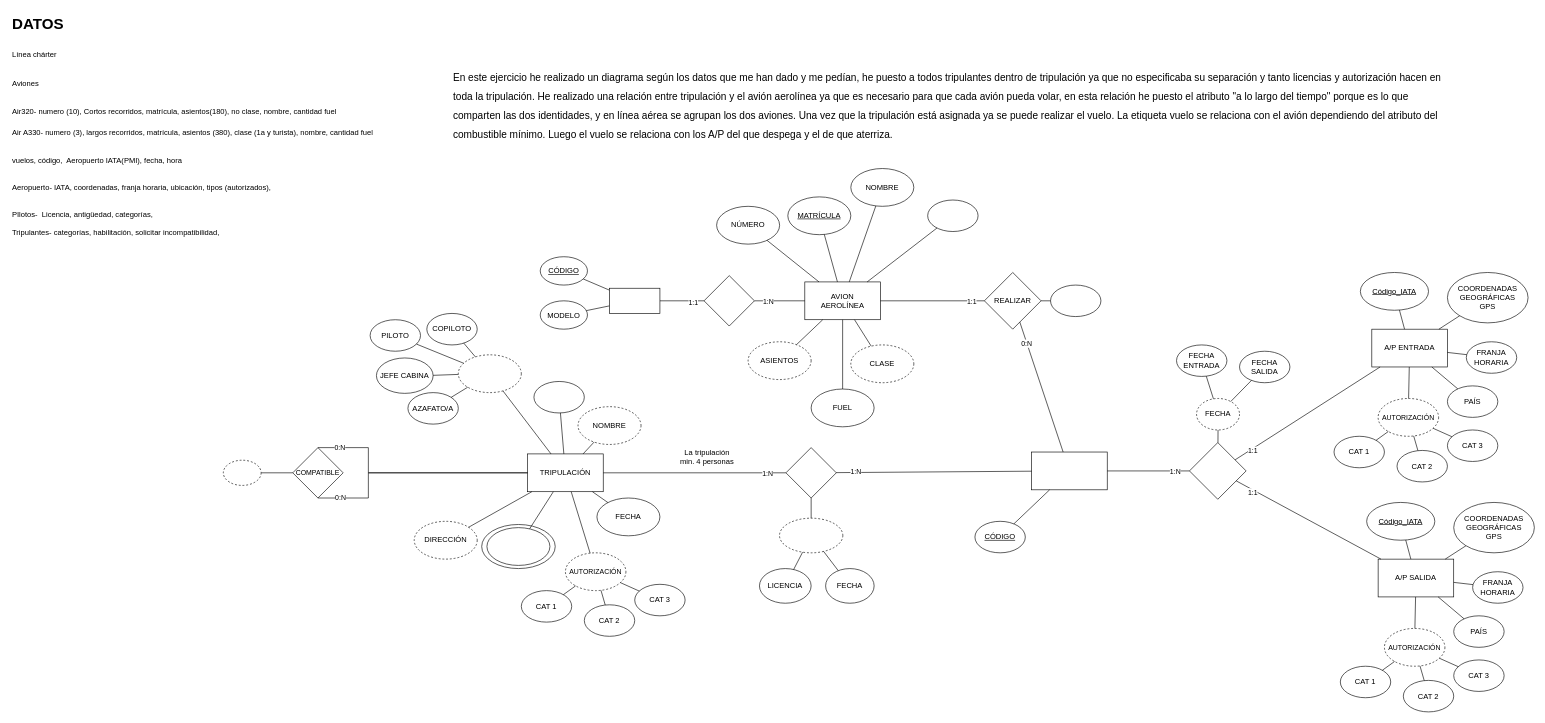
This 1545x723 diagram has some shape labels left out. The shapes that lost their labels are listed below. From the top down, each one's centre as x and y in pixels, then its label:
At [952,215]: "OACI".
At [634,300]: "TIPO".
At [728,300]: "CLASIFICA".
At [1075,300]: "FUEL MIN".
At [489,373]: "CATEGORIA".
At [558,397]: "NIF".
At [242,472]: "SI/NO".
At [810,472]: "AIGNA".
At [1069,470]: "VUELO".
At [1217,470]: "VOLAR".
At [518,546]: "TELÉFONO".
At [811,535]: "REQUISITOS".
